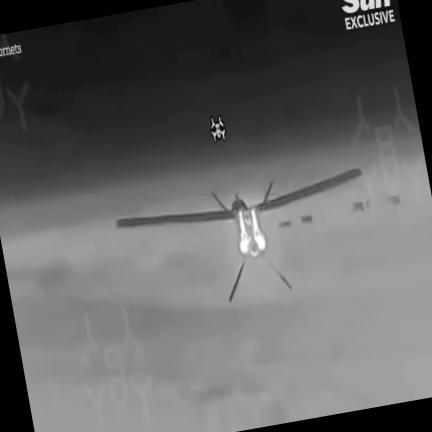Shahed: (117, 169, 362, 301)
